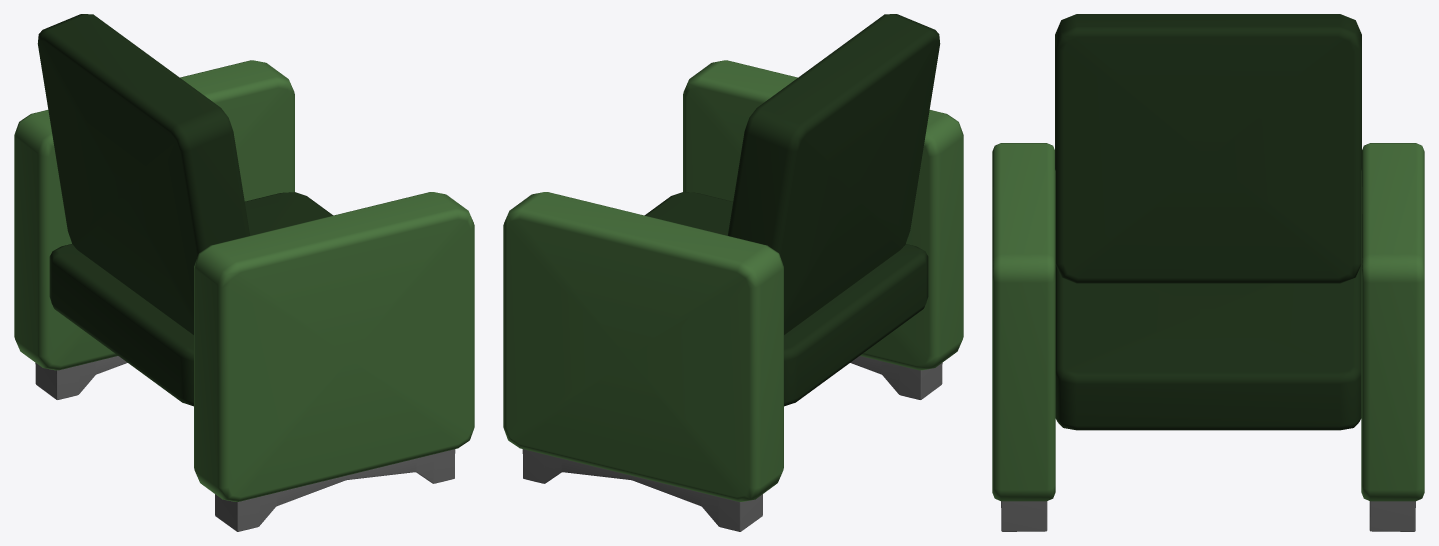
Rendered from Single_Chair.fbx.
3 views of the same model, side by side, from view 1: azimuth 30°, elevation 25°; view 2: azimuth 150°, elevation 25°; view 3: azimuth 270°, elevation 25° (orthographic). The views are drawn at different scales.
Visible parts, largest first — view 1: Single_Body, Single_Legs; view 2: Single_Body, Single_Legs; view 3: Single_Body, Single_Legs.
Part boxes in pixels (x1=…): Single_Body: x1=14, y1=14, x2=474, y2=501; Single_Legs: x1=35, y1=356, x2=455, y2=531; Single_Body: x1=503, y1=14, x2=963, y2=501; Single_Legs: x1=522, y1=356, x2=942, y2=531; Single_Body: x1=992, y1=14, x2=1424, y2=501; Single_Legs: x1=1001, y1=501, x2=1415, y2=531.
Size of the model in its own units: 68.52 by 97.12 by 94.18.
